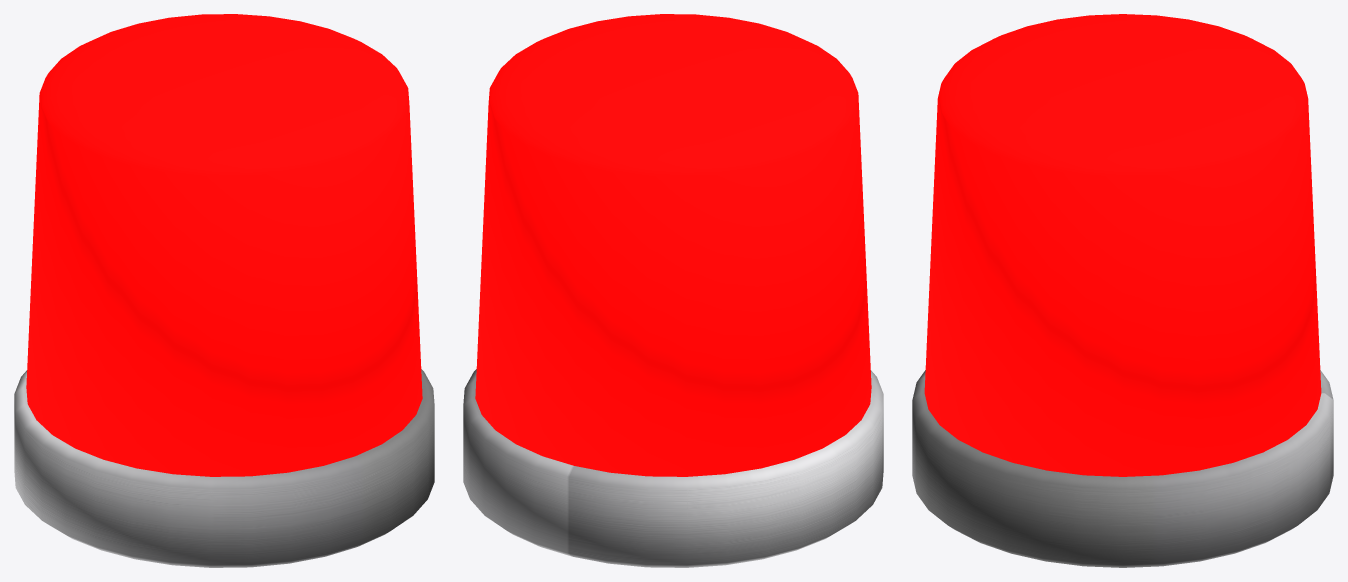
Rendered from red_lamp.glb.
3 views of the same model, side by side, from view 1: azimuth 30°, elevation 25°; view 2: azimuth 150°, elevation 25°; view 3: azimuth 270°, elevation 25° (orthographic).
Visible parts, largest first — view 1: Glass, Base; view 2: Glass, Base; view 3: Glass, Base.
Part boxes in pixels (x1,y1,x2,y2): Glass: [26, 14, 422, 476]; Base: [14, 369, 434, 567]; Glass: [475, 14, 871, 476]; Base: [463, 369, 883, 567]; Glass: [924, 14, 1321, 476]; Base: [912, 370, 1333, 567].
Size of the model in its own units: 2 by 2.15 by 2.
8 materials, 2 textured.
